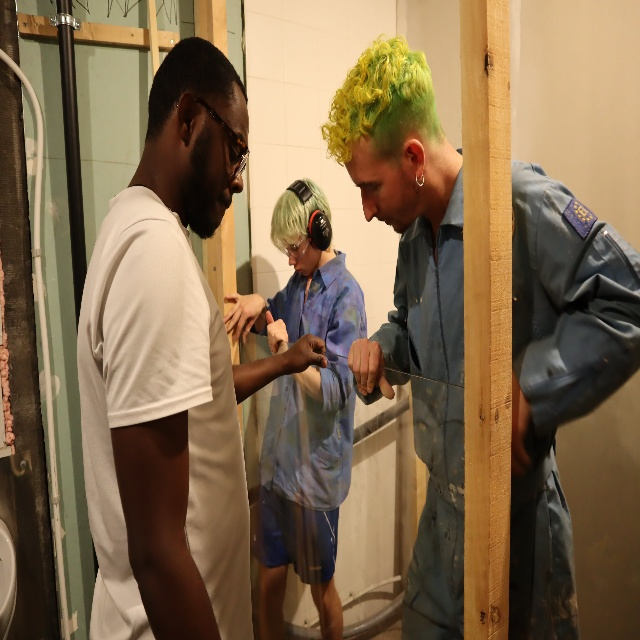Gafas: (222, 124, 250, 177), (278, 235, 307, 256)
Sin_guantes: (347, 339, 393, 401), (507, 370, 534, 471), (223, 291, 267, 344), (287, 331, 326, 370), (265, 308, 287, 356)
